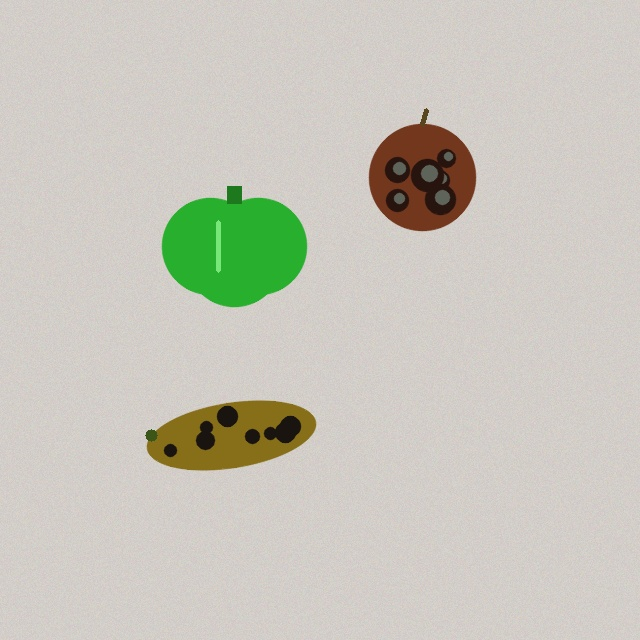Fresh bell pepper: (162, 186, 306, 306)
Rotten apple: (369, 110, 475, 230)
Rotten banana: (142, 395, 320, 475)
